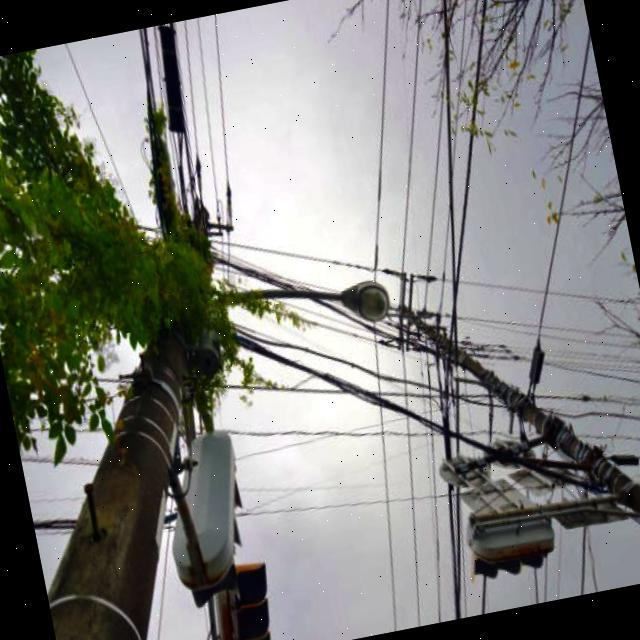critical vegetation: (87, 166, 280, 432)
